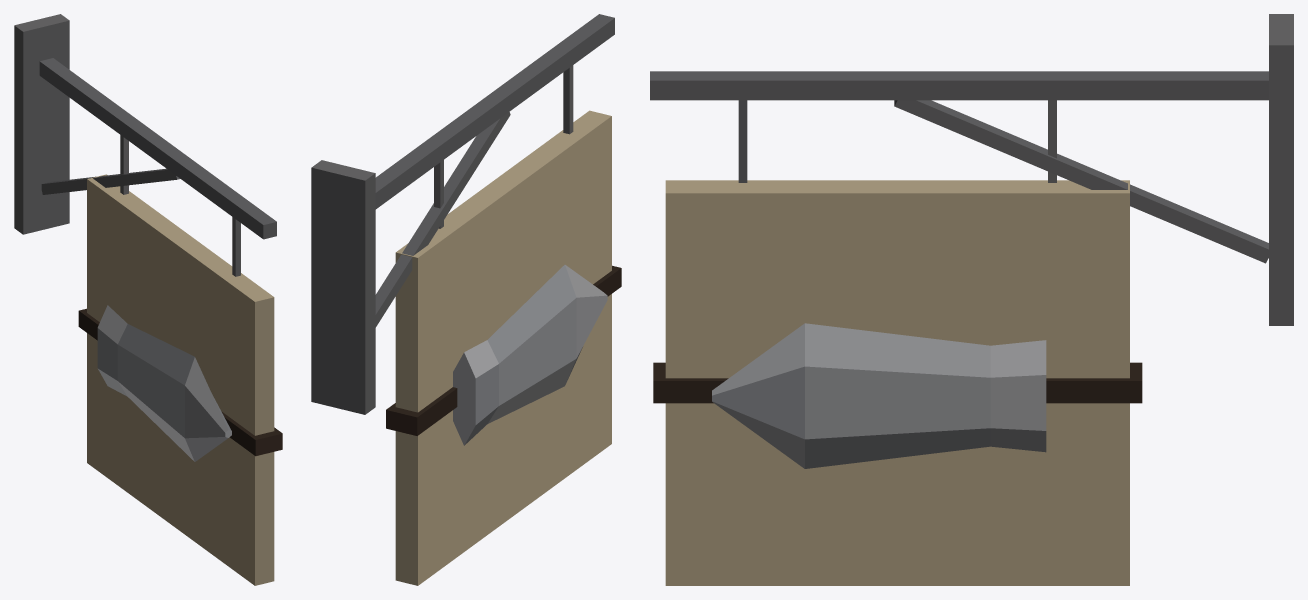
The model's file is walk_prop_sign_fish.glb.
The picture shows the model from 3 angles, left to right: view 1: azimuth 30°, elevation 25°; view 2: azimuth 150°, elevation 25°; view 3: azimuth 270°, elevation 25°; orthographic projection. The views are drawn at different scales.
Visible parts, largest first — view 1: walk_prop_sign_fish; view 2: walk_prop_sign_fish; view 3: walk_prop_sign_fish.
Boxes of the visible parts, x1,y1,x2,y2 form: walk_prop_sign_fish: (14, 14, 282, 585); walk_prop_sign_fish: (311, 14, 621, 585); walk_prop_sign_fish: (650, 14, 1293, 585).
Size of the model in its own units: 0.152 by 0.98 by 1.04.
Materials: 2 (2 with a texture image).
